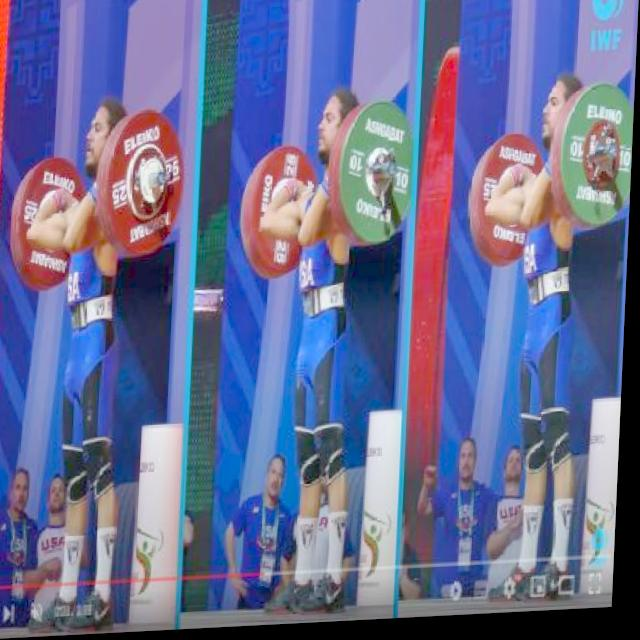barbell: (104, 103, 193, 259), (338, 99, 420, 256), (559, 84, 637, 238)
